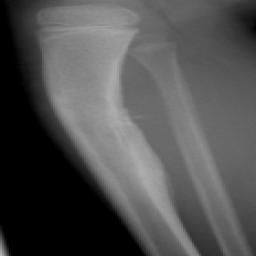cancer: (35, 27, 179, 221)
